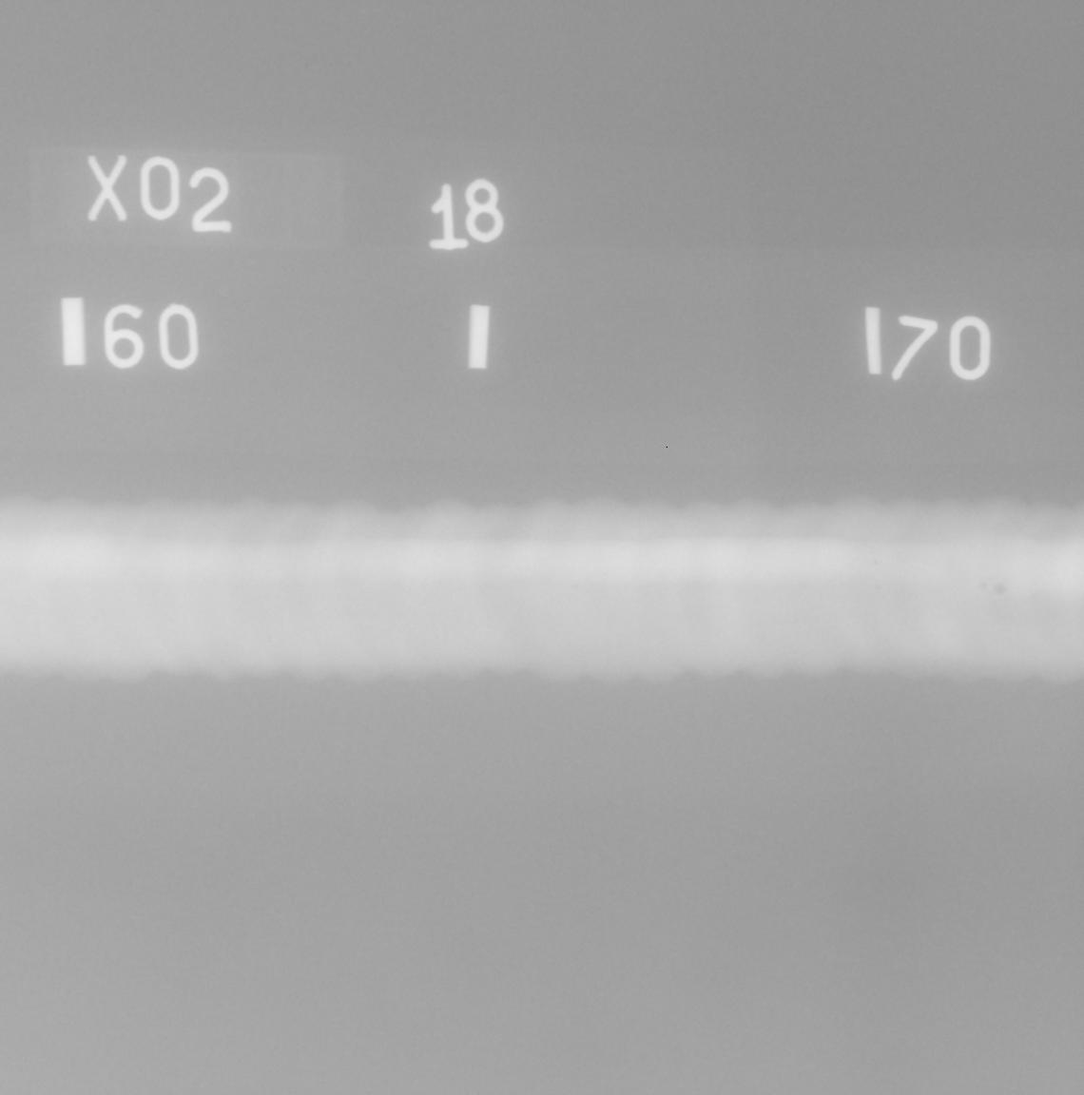Pore/Porosity: (992, 584, 1006, 595), (980, 580, 988, 590), (874, 584, 882, 592), (873, 561, 880, 566), (573, 585, 578, 591), (66, 564, 72, 568)
